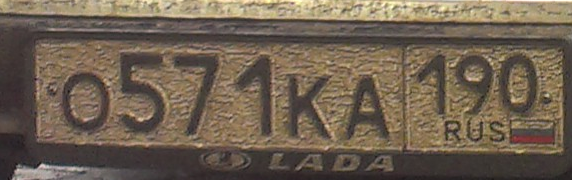character: (117, 49, 175, 136), (173, 44, 221, 143), (235, 51, 279, 144), (285, 72, 337, 148), (61, 65, 111, 134), (345, 75, 389, 148), (499, 48, 541, 117), (454, 51, 495, 121), (416, 54, 451, 119)
